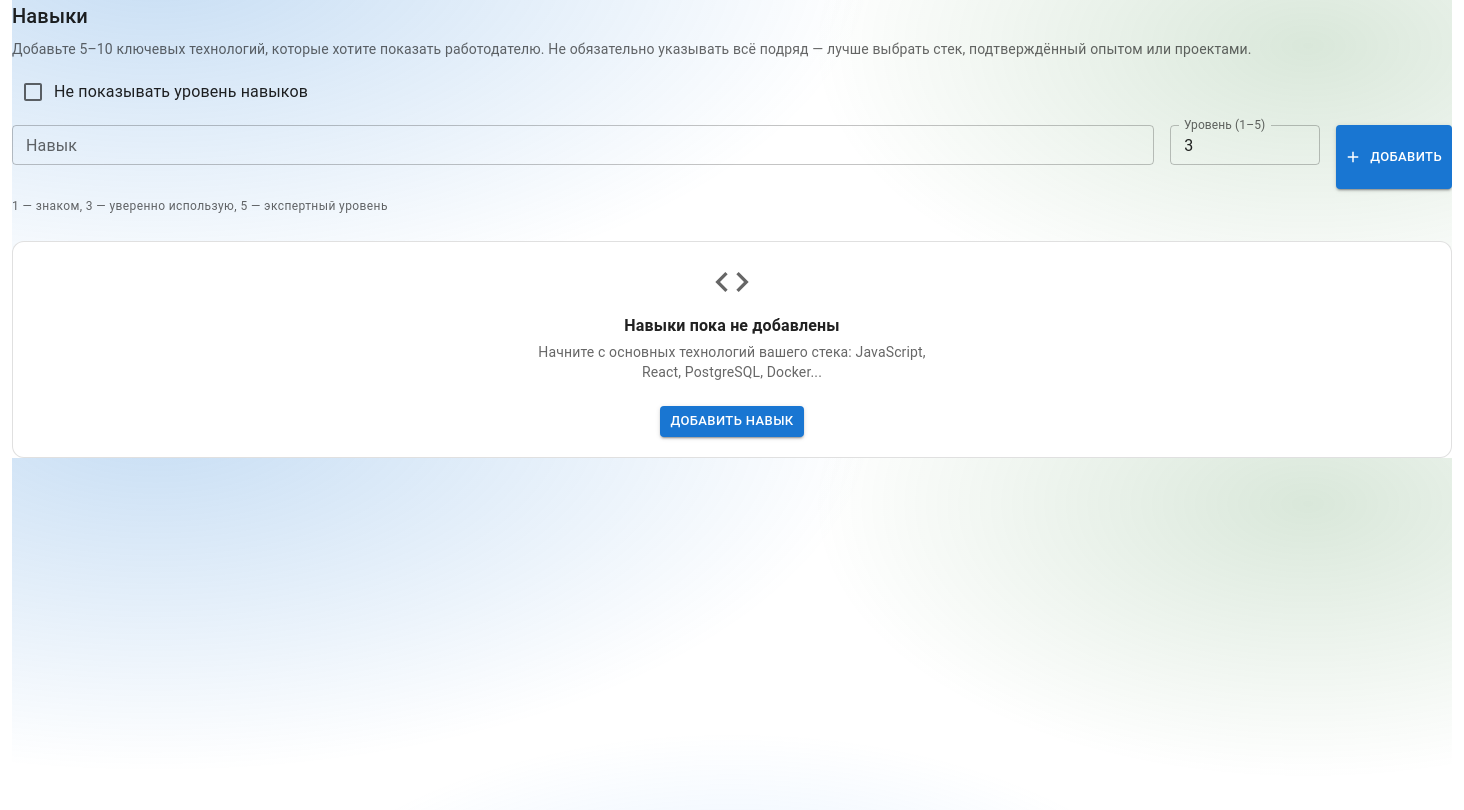
SkillsBlock form validation › error clears when user types
This screenshot has width=1464, height=810.
Click the button "Добавить" at (1394, 157), box [1336, 125, 1452, 189]
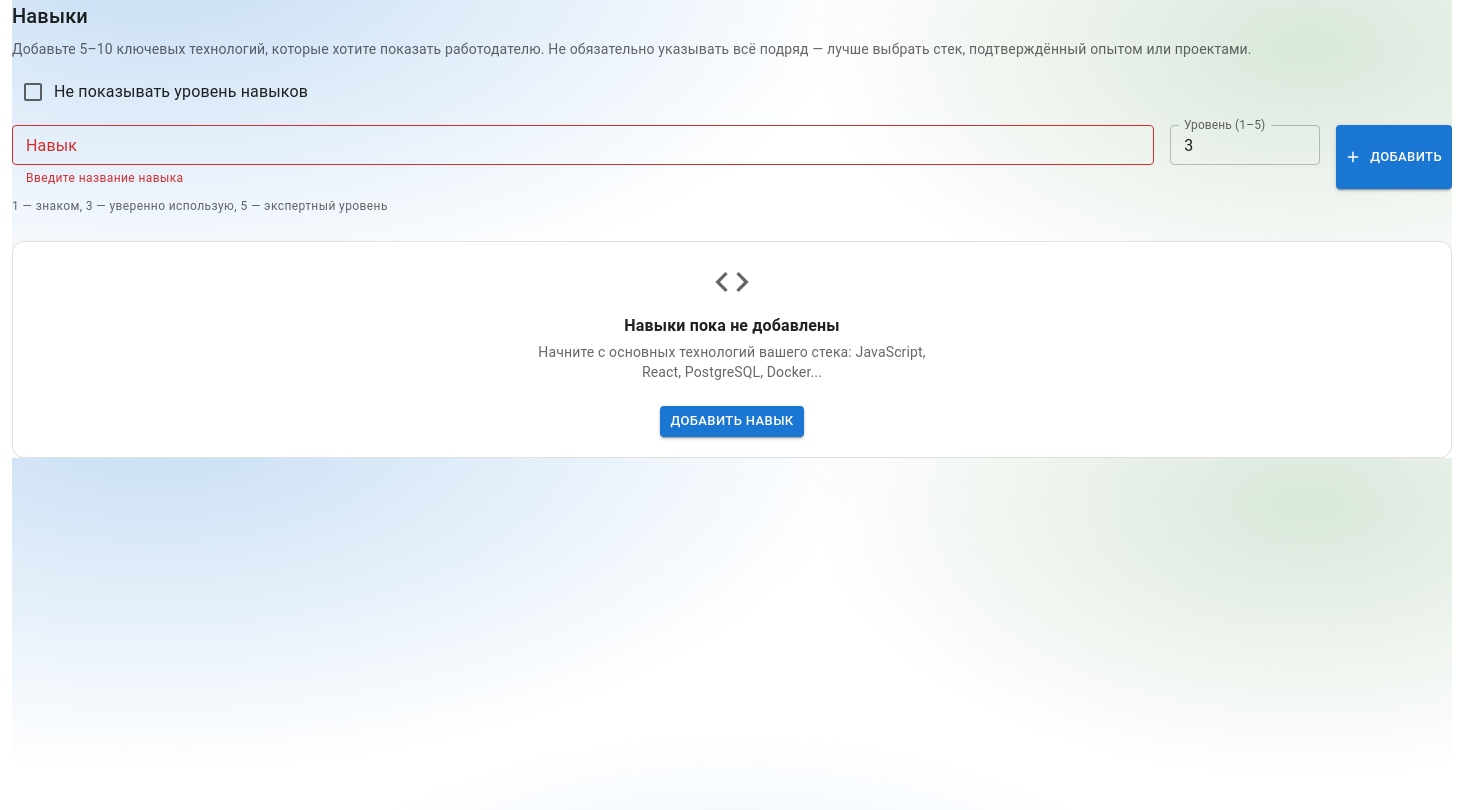
Expected: the text "Введите название навыка" is shown, [26, 171, 184, 185]
Type "R" into the field labelled "Навык" at (583, 145), box [12, 125, 1154, 165]
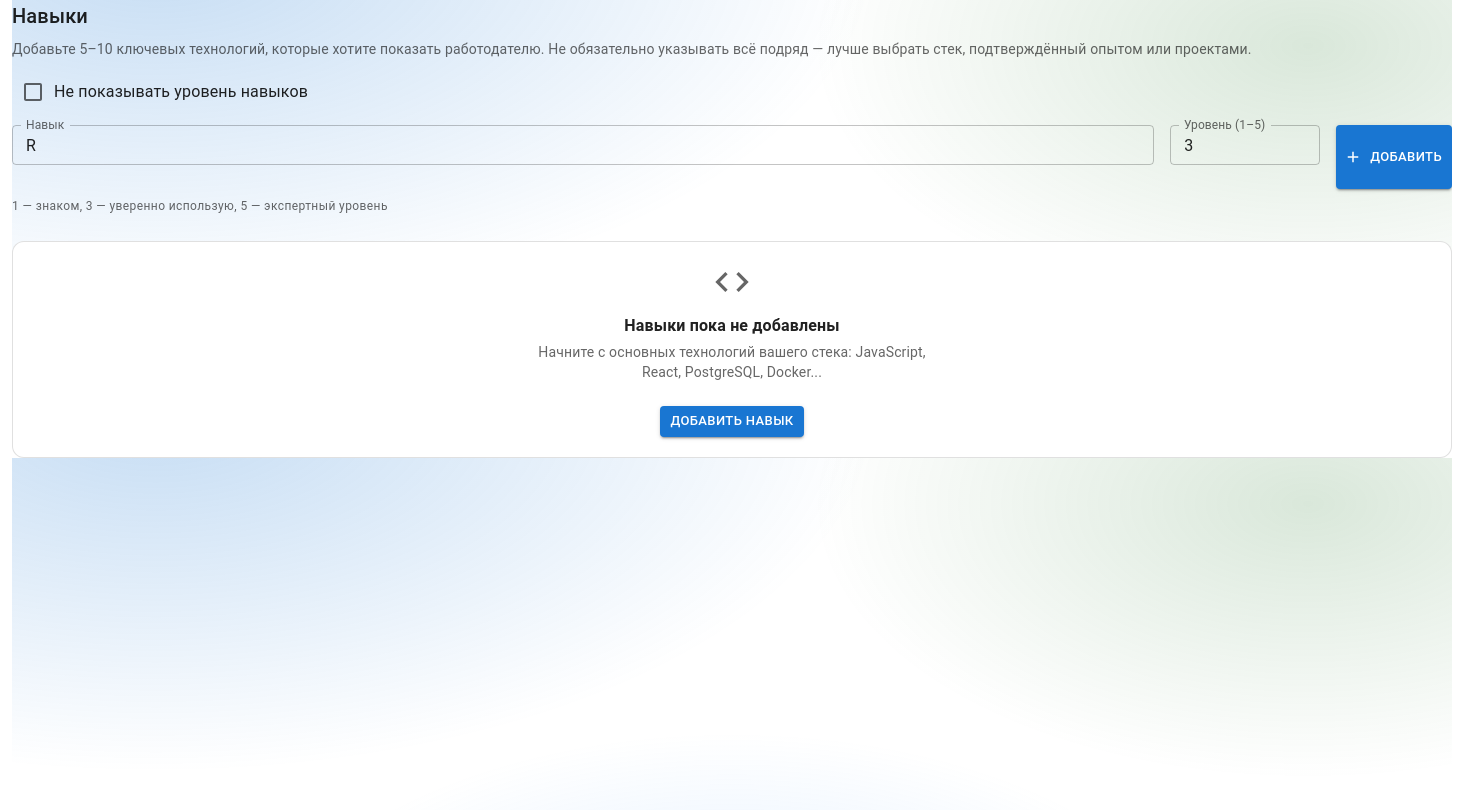
Expected: the text "Введите название навыка" is gone
